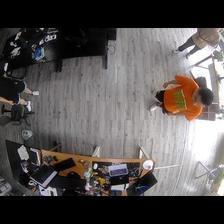normal: (151, 76, 213, 118), (1, 76, 39, 112)
